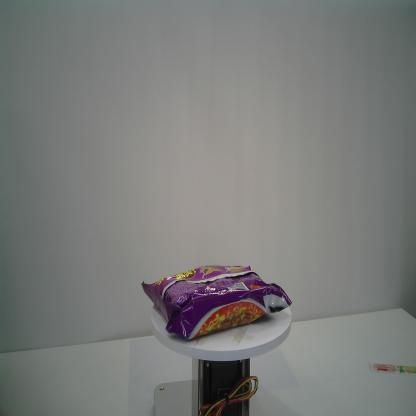Instant Noodles: (141, 263, 293, 342)
